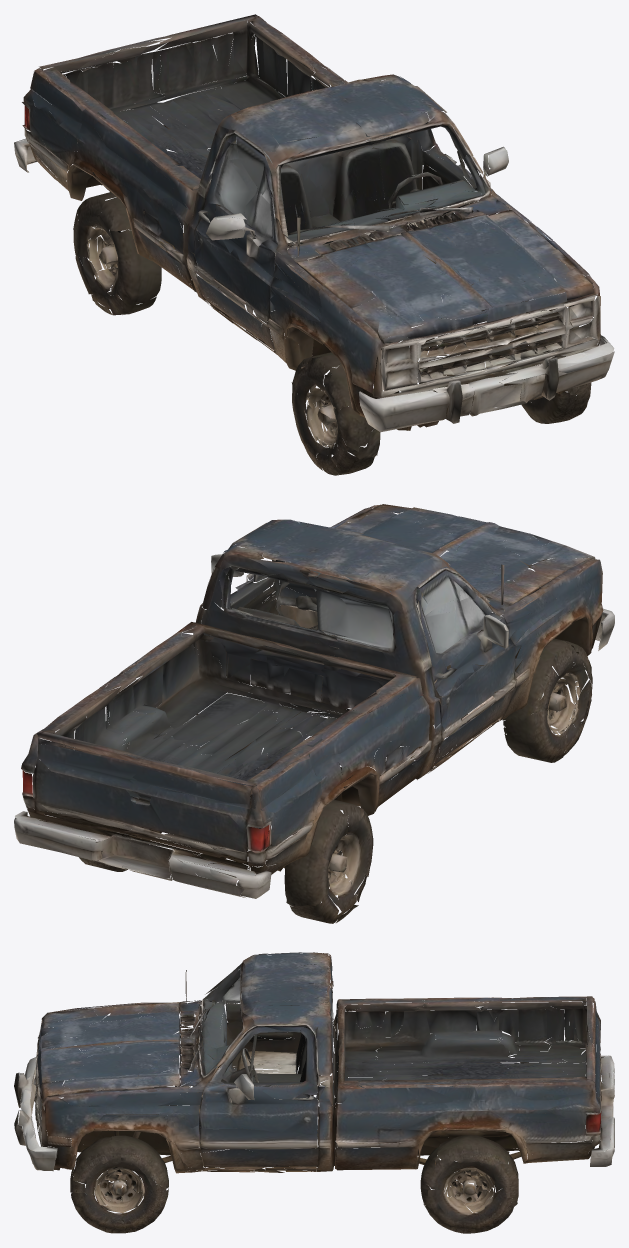
The model's file is pickup.glb.
3 views of the same model, one above another, from view 1: azimuth 30°, elevation 25°; view 2: azimuth 150°, elevation 25°; view 3: azimuth 270°, elevation 25° (orthographic). The views are drawn at different scales.
Visible parts, largest first — view 1: pickup; view 2: pickup; view 3: pickup.
Part boxes in pixels (left/top/right/bottom): pickup: left=14, top=14, right=614, bottom=475; pickup: left=14, top=504, right=614, bottom=923; pickup: left=14, top=952, right=614, bottom=1233.
Size of the model in its own units: 2.53 by 2.08 by 5.5.
1 material, 1 textured.
